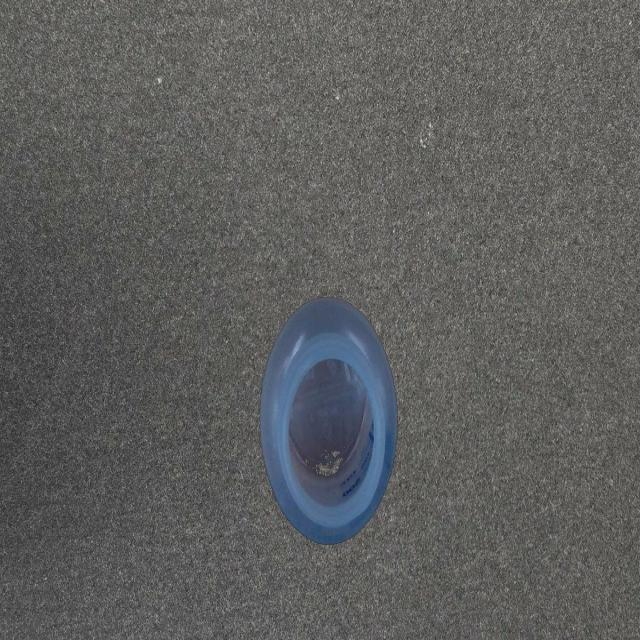bottle: (259, 290, 401, 545)
